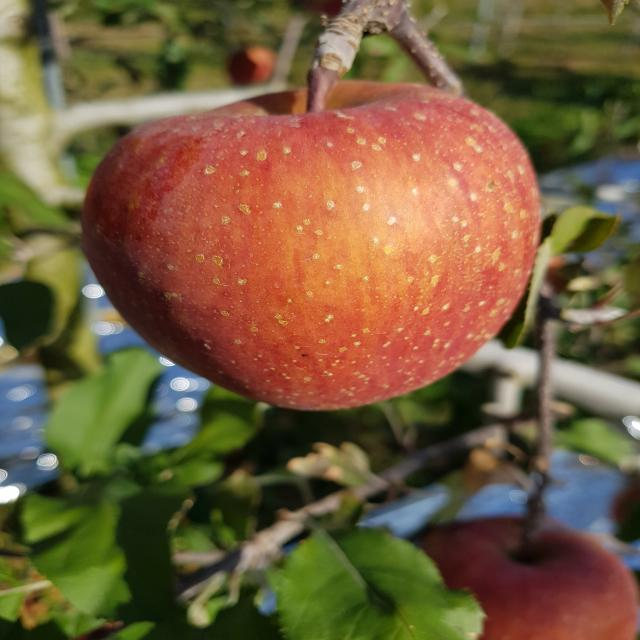fresh: (65, 70, 559, 421)
